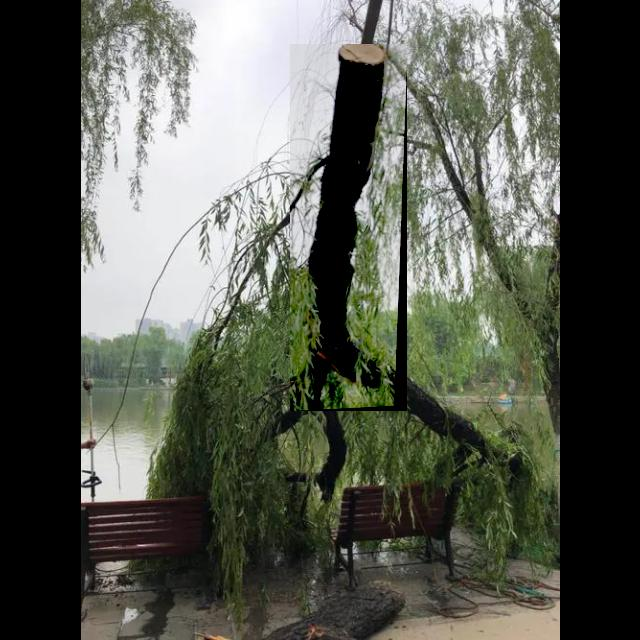Fallen Tree: (290, 44, 408, 412)
